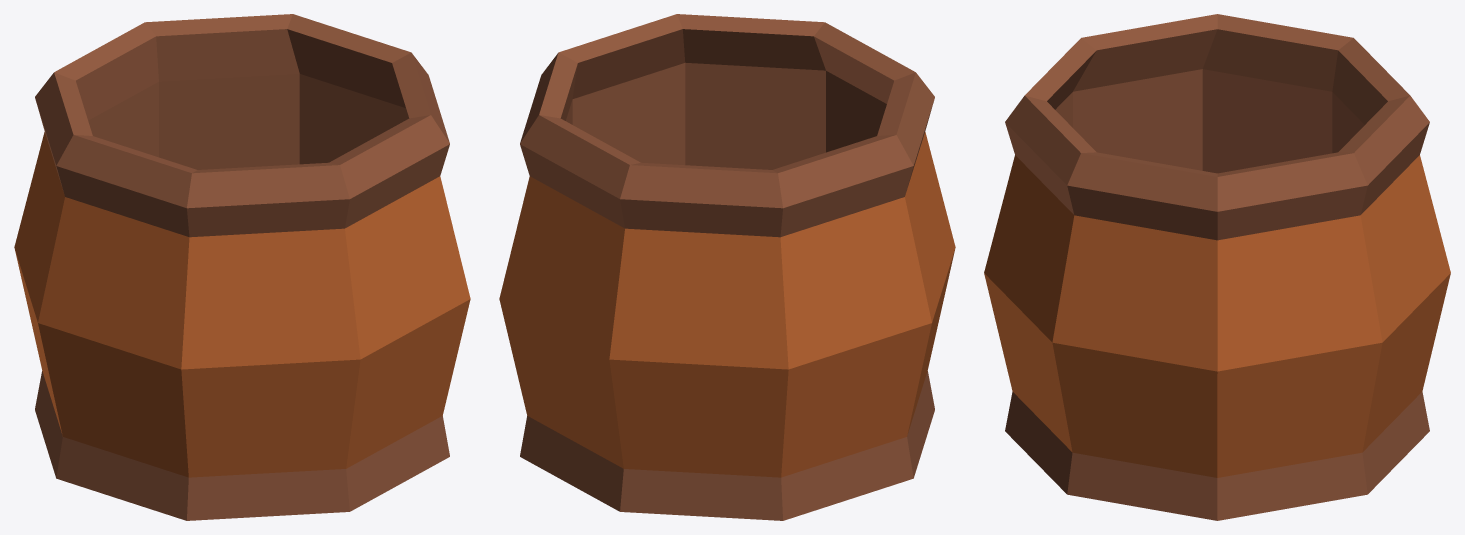
The model's file is jar.fbx.
3 renders of one model, left to right at view 1: azimuth 30°, elevation 25°; view 2: azimuth 150°, elevation 25°; view 3: azimuth 270°, elevation 25°, orthographic.
Visible parts, largest first — view 1: jar; view 2: jar; view 3: jar.
Boxes of the visible parts, x1=… form: jar: x1=14, y1=14, x2=470, y2=520; jar: x1=499, y1=14, x2=955, y2=520; jar: x1=984, y1=14, x2=1450, y2=520.
Bounding box in the file's own units: 23.8 × 18.88 × 23.8.
